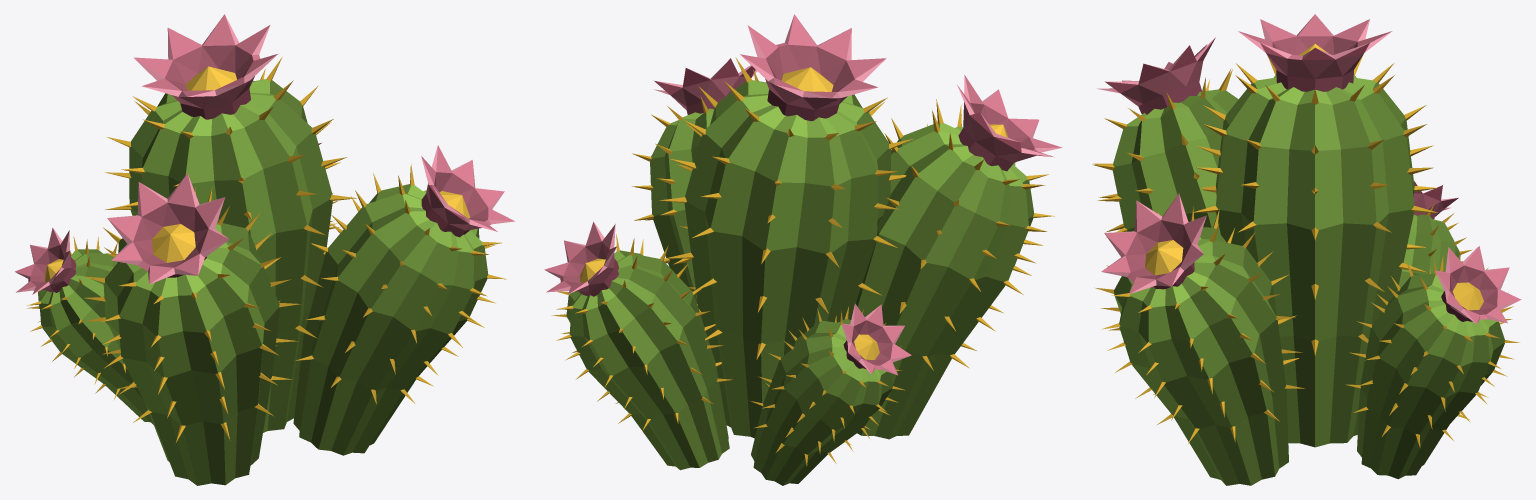
Rendered from CS_Plant_01_L3.fbx.
3 renders of one model, left to right at view 1: azimuth 30°, elevation 25°; view 2: azimuth 150°, elevation 25°; view 3: azimuth 270°, elevation 25°, orthographic.
Parts seen in each view (by area): view 1: Plant_01_L3_d, Plant_01_L3_b, Plant_01_L3_a, Plant_01_L3_e; view 2: Plant_01_L3_a, Plant_01_L3_d, Plant_01_L3_c, Plant_01_L3_e, Plant_01_L3_b; view 3: Plant_01_L3_a, Plant_01_L3_b, Plant_01_L3_c, Plant_01_L3_d, Plant_01_L3_e.
Boxes of the visible parts, <box> form: Plant_01_L3_d: <box>84,173,300,485</box>; Plant_01_L3_b: <box>293,145,515,455</box>; Plant_01_L3_a: <box>105,14,356,432</box>; Plant_01_L3_e: <box>15,228,153,424</box>; Plant_01_L3_a: <box>659,14,913,438</box>; Plant_01_L3_d: <box>850,75,1062,439</box>; Plant_01_L3_c: <box>544,221,732,470</box>; Plant_01_L3_e: <box>750,303,911,485</box>; Plant_01_L3_b: <box>632,58,757,305</box>; Plant_01_L3_a: <box>1191,14,1438,447</box>; Plant_01_L3_b: <box>1094,193,1305,485</box>; Plant_01_L3_c: <box>1345,246,1521,479</box>; Plant_01_L3_d: <box>1092,37,1238,237</box>; Plant_01_L3_e: <box>1397,181,1472,291</box>.
Size of the model in its own units: 0.7453 by 0.7263 by 0.6856.
